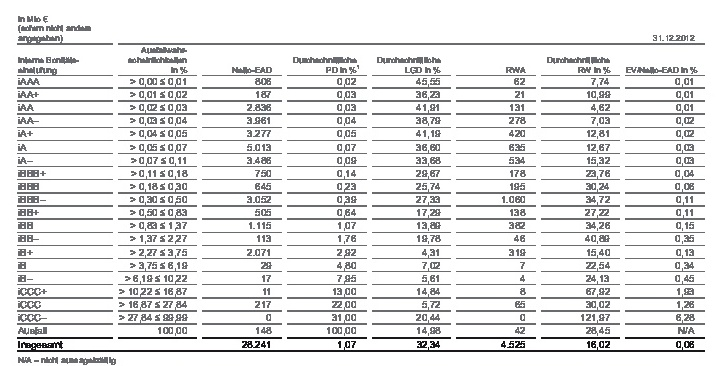table: (0, 0, 723, 366)
